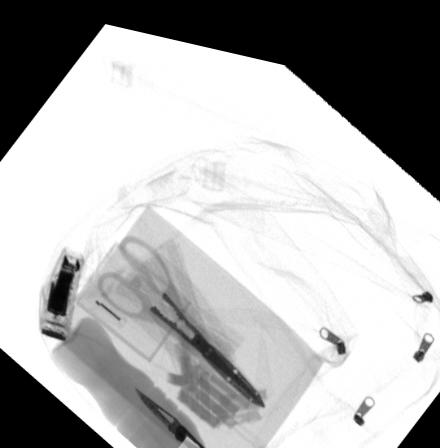Knife: (135, 380, 214, 448)
Scissors: (93, 228, 264, 395)
